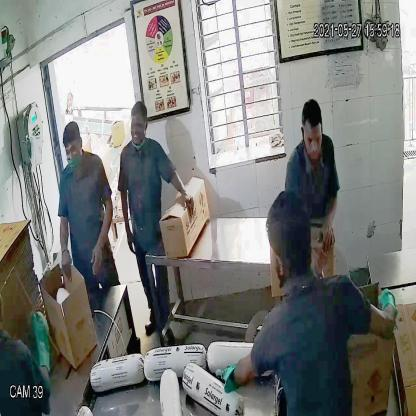no_goggles: (297, 127, 328, 148), (63, 142, 84, 160)
